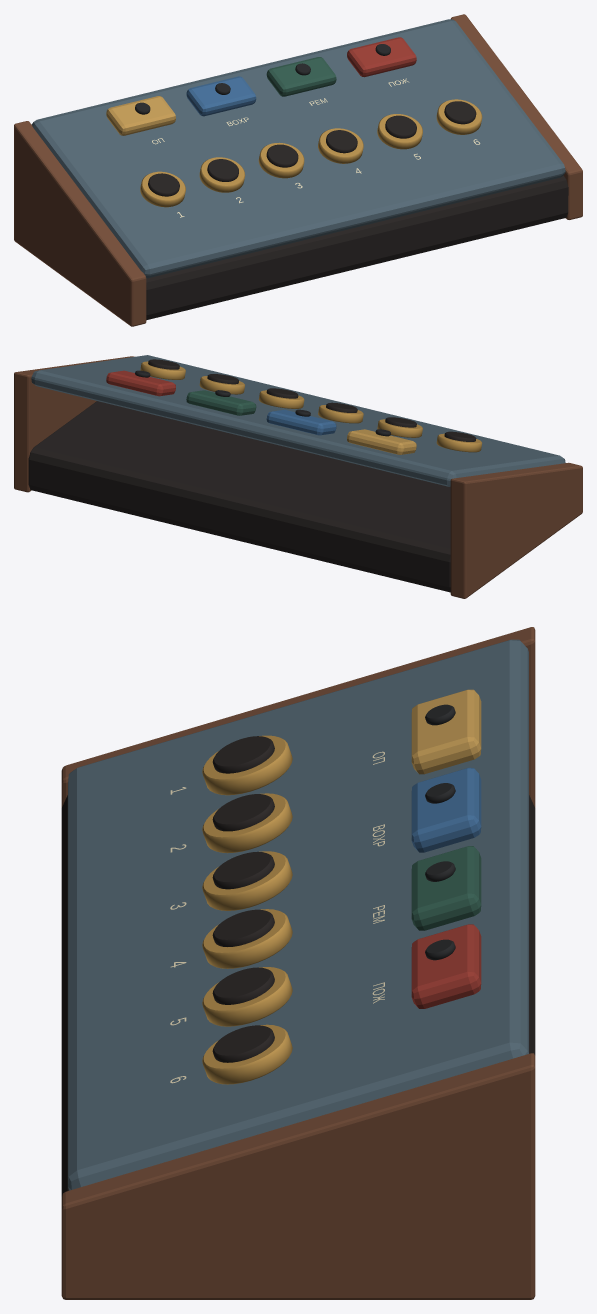
Rendered from SwitchboardHousing.fbx.
The picture shows the model from 3 angles, top to bottom: view 1: azimuth 30°, elevation 25°; view 2: azimuth 150°, elevation 25°; view 3: azimuth 270°, elevation 25°; orthographic projection. The views are drawn at different scales.
Visible parts, largest first — view 1: Sloping enamel face, Lower tray, Walnut cheek, Walnut cheek.001, Plug parking Security, Plug parking Fire, Plug parking Operations, Plug parking Repair, Socket collar.005, Socket collar.002, Socket collar, Socket collar.004 (+8 smaller); view 2: Lower tray, Sloping enamel face, Walnut cheek, Walnut cheek.001, Plug parking Fire, Plug parking Operations, Plug parking Repair, Plug parking Security, Socket collar, Socket collar.002, Socket collar.003, Socket collar.005 (+2 smaller); view 3: Sloping enamel face, Walnut cheek.001, Walnut cheek, Plug parking Operations, Plug parking Security, Plug parking Fire, Plug parking Repair, Lower tray, Socket collar, Socket collar.001, Socket collar.004, Socket collar.005 (+8 smaller).
Boxes of the visible parts, left/top/right/bottom form: Sloping enamel face: left=31, top=19, right=565, bottom=278; Lower tray: left=146, top=175, right=568, bottom=320; Walnut cheek: left=14, top=121, right=146, bottom=326; Walnut cheek.001: left=451, top=14, right=582, bottom=219; Plug parking Security: left=186, top=76, right=256, bottom=116; Plug parking Fire: left=347, top=37, right=416, bottom=77; Plug parking Operations: left=106, top=96, right=175, bottom=135; Plug parking Repair: left=266, top=57, right=336, bottom=96; Socket collar.005: left=436, top=99, right=482, bottom=134; Socket collar.002: left=258, top=142, right=304, bottom=178; Socket collar: left=140, top=171, right=185, bottom=207; Socket collar.004: left=377, top=114, right=422, bottom=149; Lower tray: left=28, top=401, right=450, bottom=592; Sloping enamel face: left=31, top=355, right=565, bottom=486; Walnut cheek: left=450, top=462, right=582, bottom=598; Walnut cheek.001: left=14, top=356, right=134, bottom=492; Plug parking Fire: left=106, top=370, right=175, bottom=396; Plug parking Operations: left=347, top=429, right=416, bottom=454; Plug parking Repair: left=186, top=390, right=256, bottom=415; Plug parking Security: left=266, top=409, right=336, bottom=435; Socket collar: left=436, top=433, right=482, bottom=452; Socket collar.002: left=318, top=405, right=363, bottom=423; Socket collar.003: left=258, top=390, right=304, bottom=408; Socket collar.005: left=140, top=361, right=185, bottom=379; Sloping enamel face: left=68, top=639, right=528, bottom=1190; Walnut cheek.001: left=61, top=1053, right=535, bottom=1299; Walnut cheek: left=61, top=627, right=535, bottom=807; Plug parking Operations: left=411, top=689, right=481, bottom=774; Plug parking Security: left=411, top=767, right=481, bottom=852; Plug parking Fire: left=411, top=924, right=481, bottom=1008; Plug parking Repair: left=411, top=846, right=481, bottom=930; Lower tray: left=61, top=795, right=535, bottom=1196; Socket collar: left=202, top=735, right=292, bottom=795; Socket collar.001: left=202, top=793, right=292, bottom=853; Socket collar.004: left=202, top=967, right=292, bottom=1026; Socket collar.005: left=202, top=1024, right=292, bottom=1084.
Size of the model in its own units: 1.02 by 0.2742 by 0.46.
